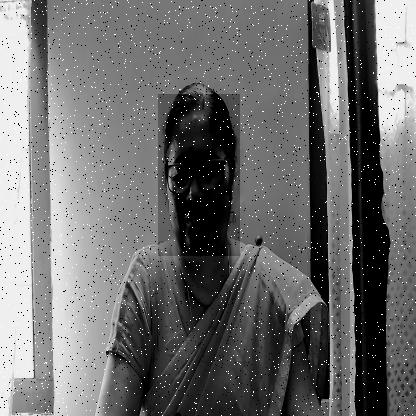Normal: (158, 94, 240, 256)
